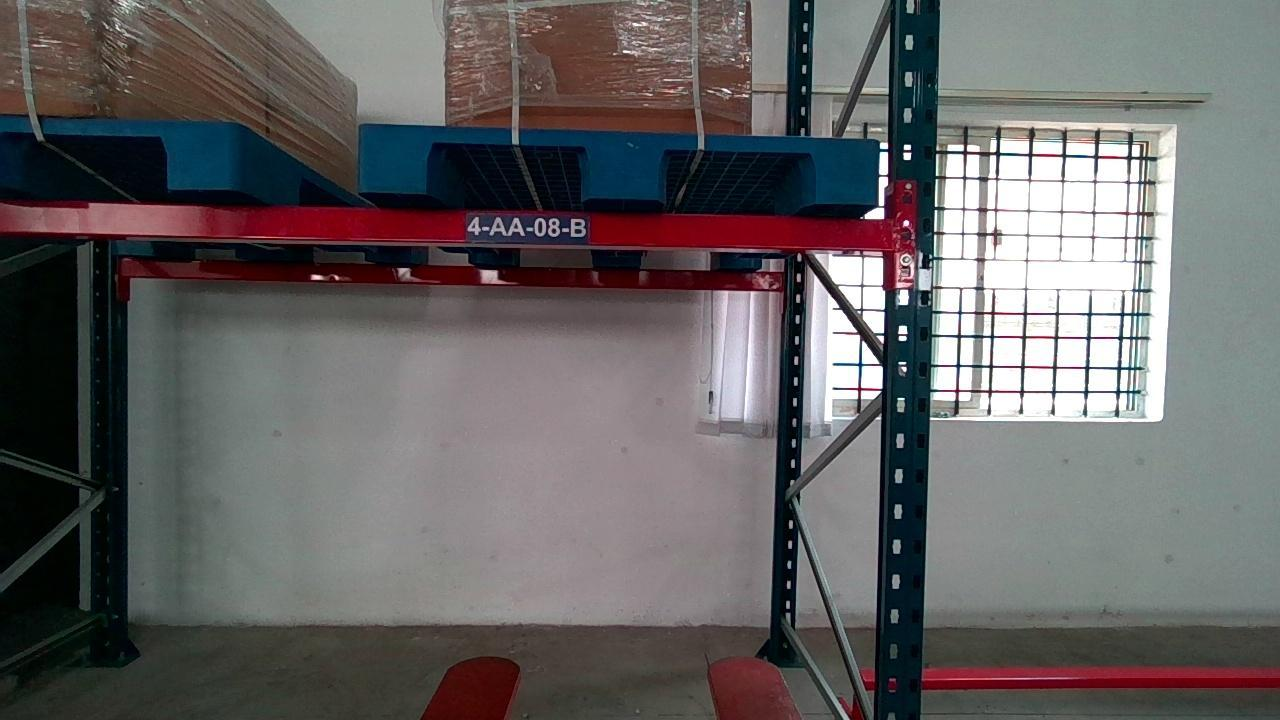h_rack: (0, 197, 897, 251)
small_pallet: (360, 123, 876, 204), (0, 116, 239, 192)
